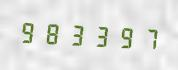eight: (40, 17, 62, 48)
nine: (17, 16, 39, 47), (110, 21, 132, 52)
seven: (133, 22, 155, 53)
three: (87, 19, 109, 51), (64, 18, 86, 49)
